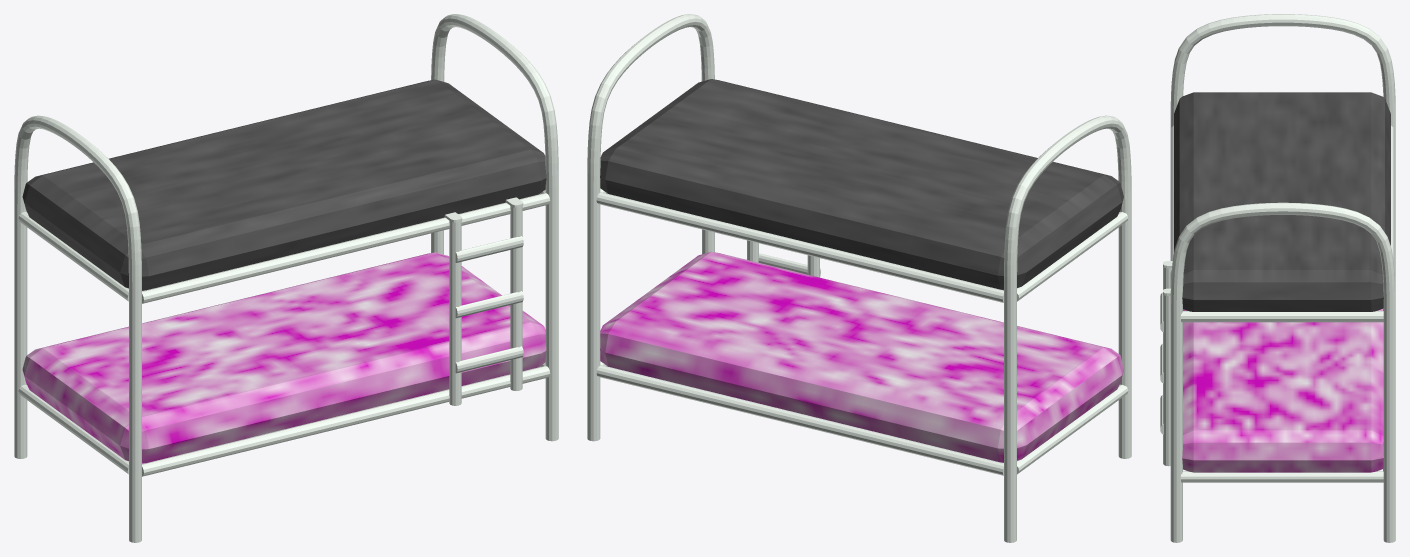
File: кровать2.fbx
3 views of the same model, side by side, from view 1: azimuth 30°, elevation 25°; view 2: azimuth 150°, elevation 25°; view 3: azimuth 270°, elevation 25° (orthographic). The views are drawn at different scales.
Visible parts, largest first — view 1: Cube.001; view 2: Cube.001; view 3: Cube.001.
Boxes of the visible parts, x1,y1,x2,y2 form: Cube.001: (14,14,558,542); Cube.001: (587,14,1131,542); Cube.001: (1160,14,1395,542).
Bounding box in the file's own units: 423 × 342 × 216.
3 materials, 2 textured.
